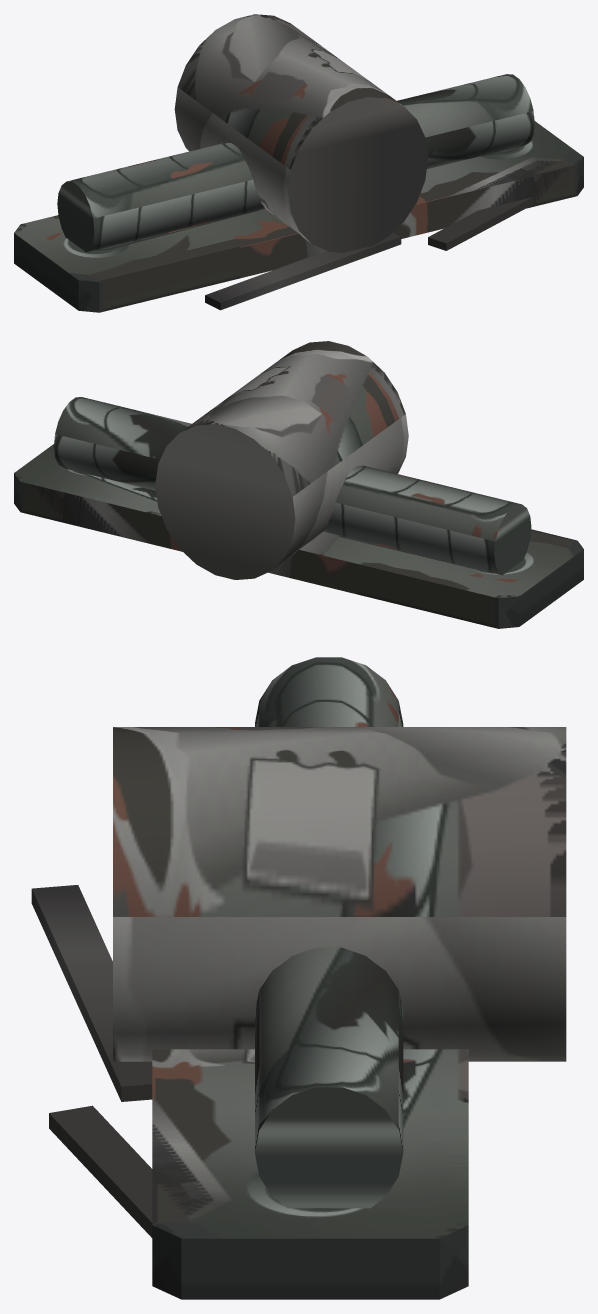
File: Building_AncientWindTurbineBody.obj
3 views of the same model, one above another, from view 1: azimuth 30°, elevation 25°; view 2: azimuth 150°, elevation 25°; view 3: azimuth 270°, elevation 25° (orthographic). The views are drawn at different scales.
Visible parts, largest first — view 1: Body; view 2: Body; view 3: Body.
Part boxes in pixels (x1=…): Body: x1=14, y1=14, x2=583, y2=312; Body: x1=14, y1=341, x2=583, y2=628; Body: x1=31, y1=657, x2=566, y2=1299.
Size of the model in its own units: 3.46 by 1.04 by 1.58.
1 material, 1 textured.
